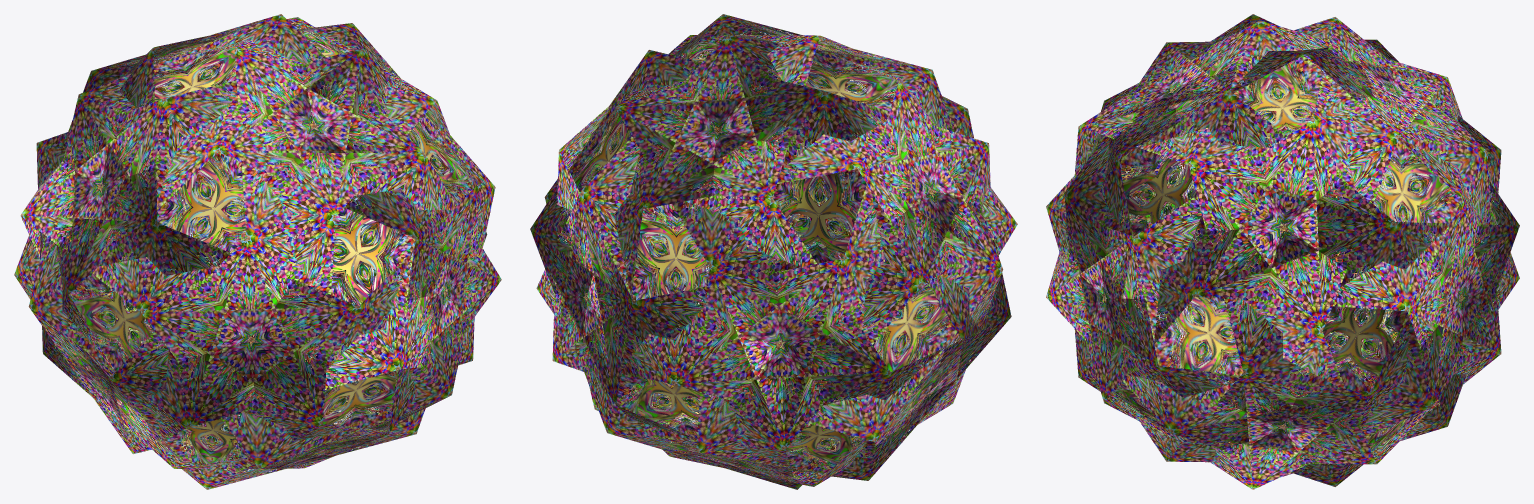
Rendered from 18SnubIcosidodecadodecahedron.gltf.
The picture shows the model from 3 angles, left to right: view 1: azimuth 30°, elevation 25°; view 2: azimuth 150°, elevation 25°; view 3: azimuth 270°, elevation 25°; orthographic projection.
Parts seen in each view (by area): view 1: 16SnubIcosidodecadodecahedron; view 2: 16SnubIcosidodecadodecahedron; view 3: 16SnubIcosidodecadodecahedron.
Part boxes in pixels (x1,y1,x2,y2): 16SnubIcosidodecadodecahedron: (14, 14, 501, 489); 16SnubIcosidodecadodecahedron: (530, 14, 1017, 489); 16SnubIcosidodecadodecahedron: (1046, 14, 1519, 489).
Size of the model in its own units: 2.21 by 2.21 by 2.21.
Materials: 1 (1 with a texture image).
